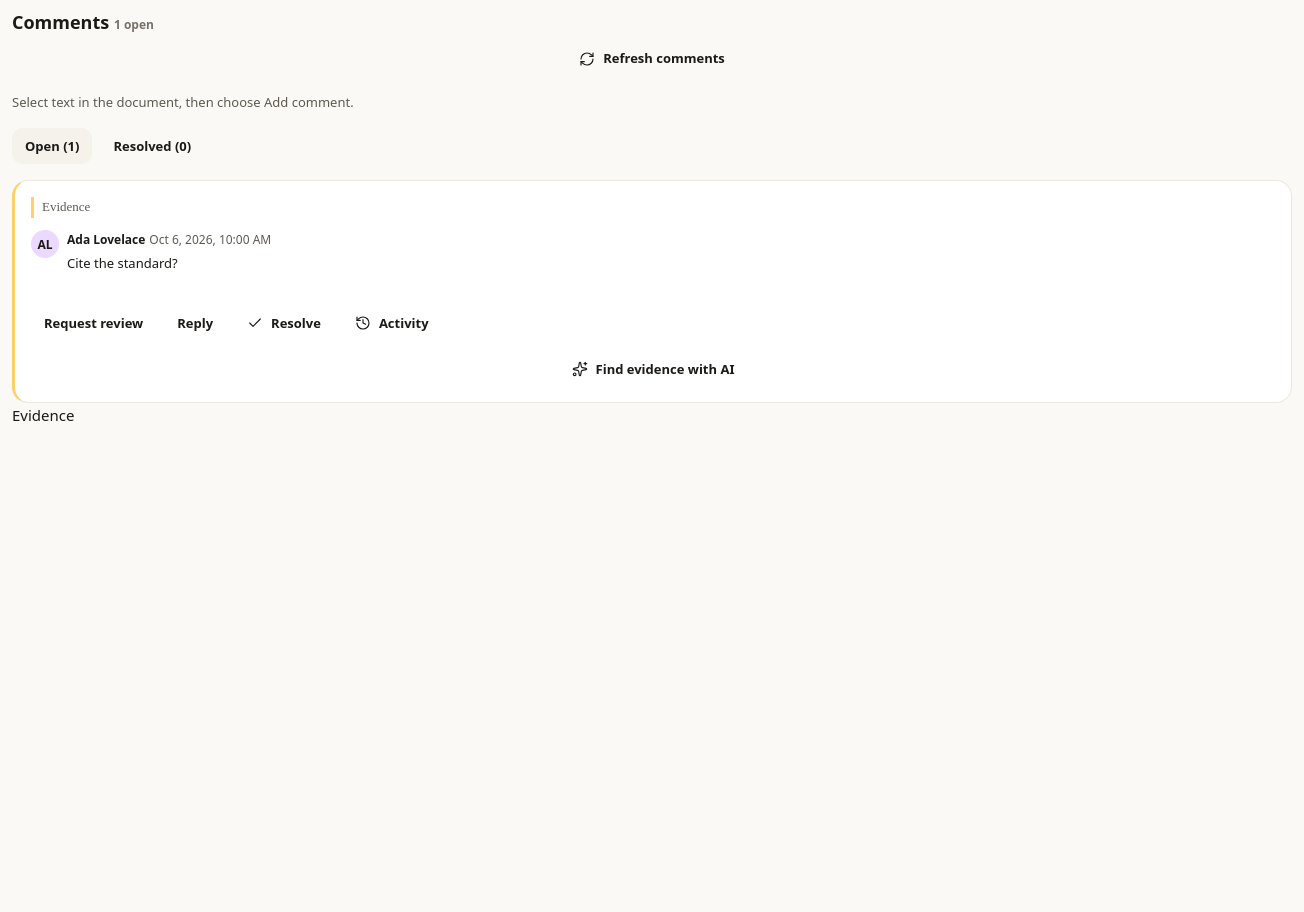
Test case: makes a new reply key for a changed draft and can cancel a reply
Click the button "Reply" at [195, 323], box [164,306,226,340]
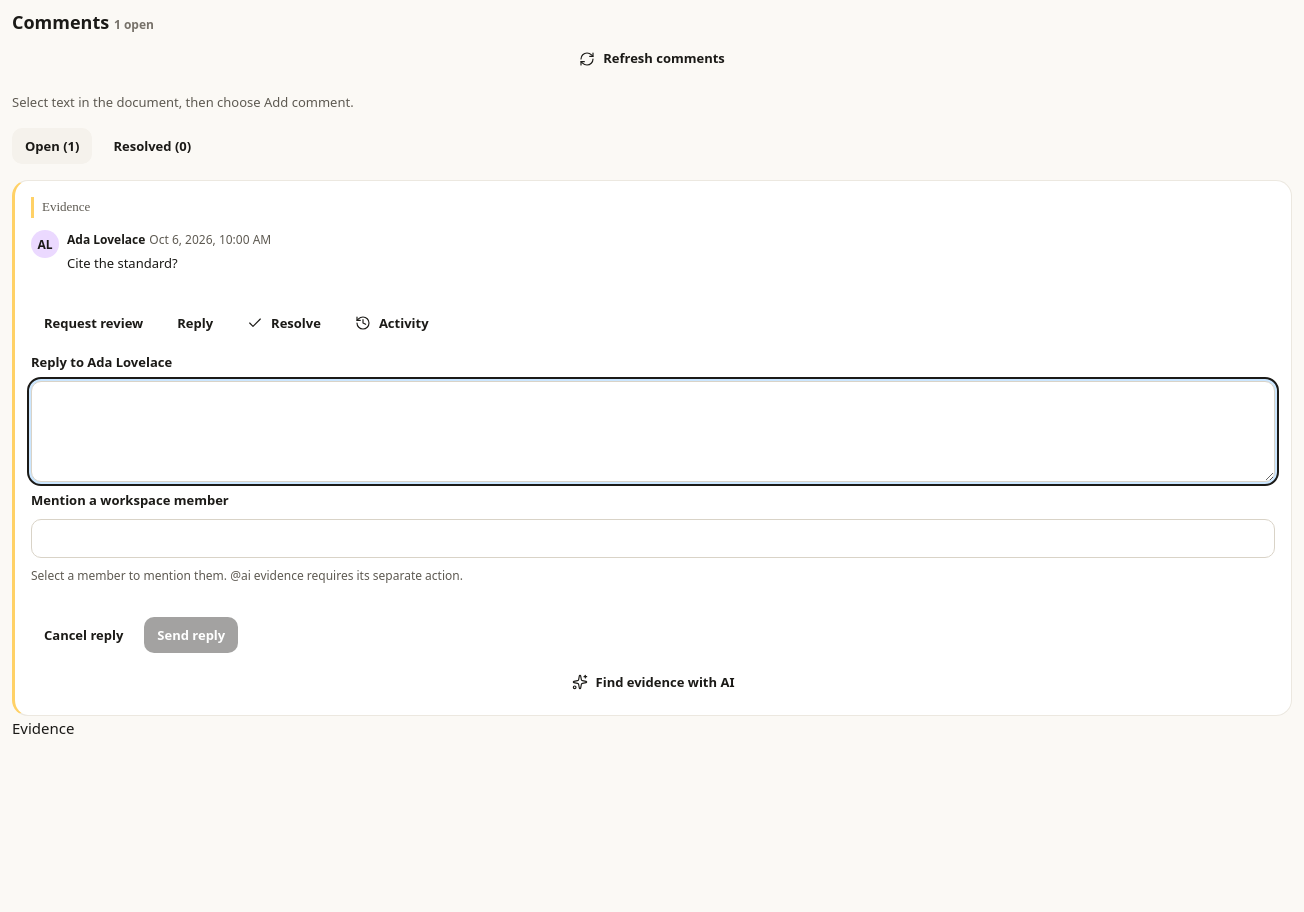
Type "First" into the text box labelled "Reply to Ada Lovelace" at [653, 432], box [31,381,1275,482]
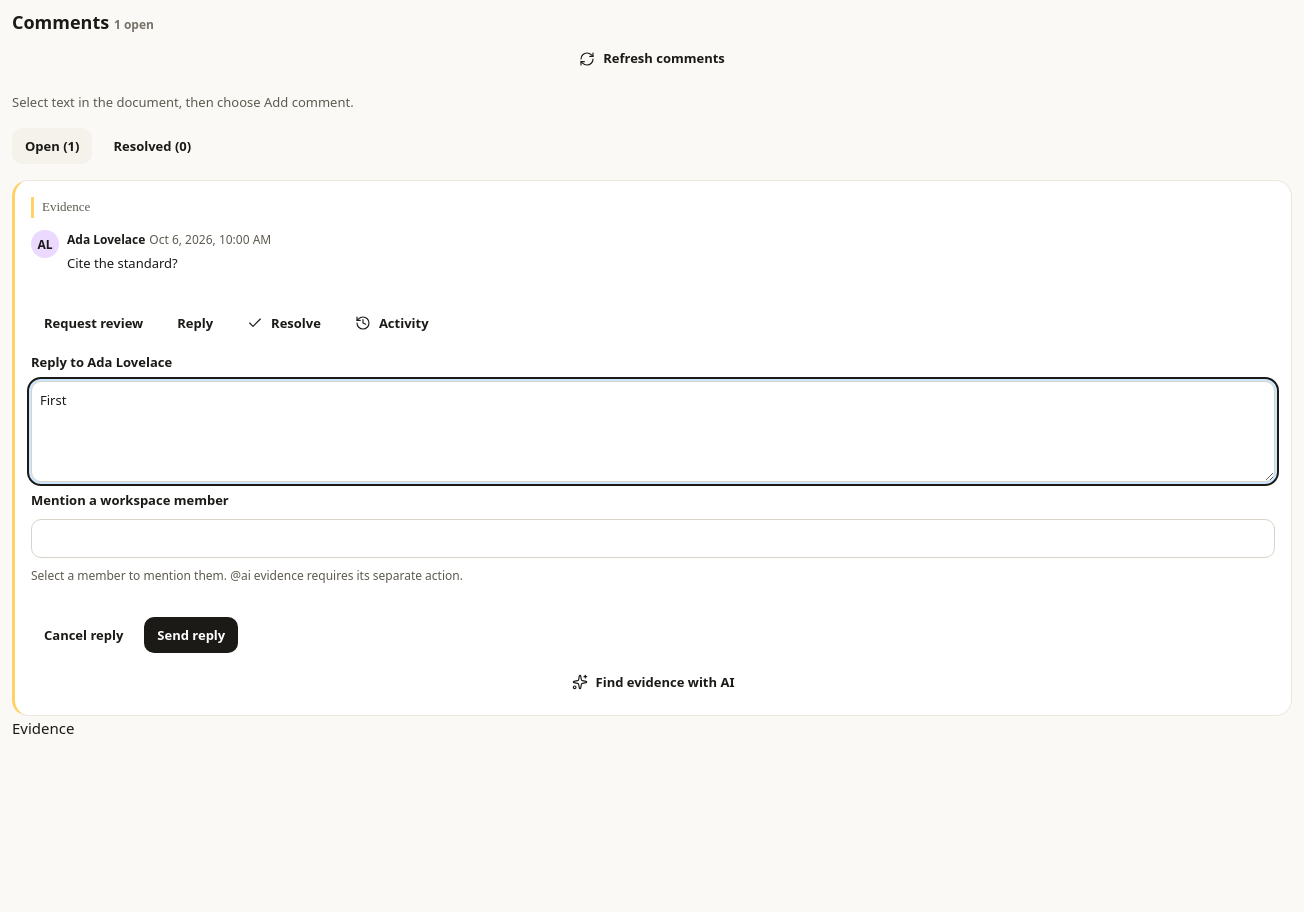
Click the button "Send reply" at [191, 635], box [144,617,238,653]
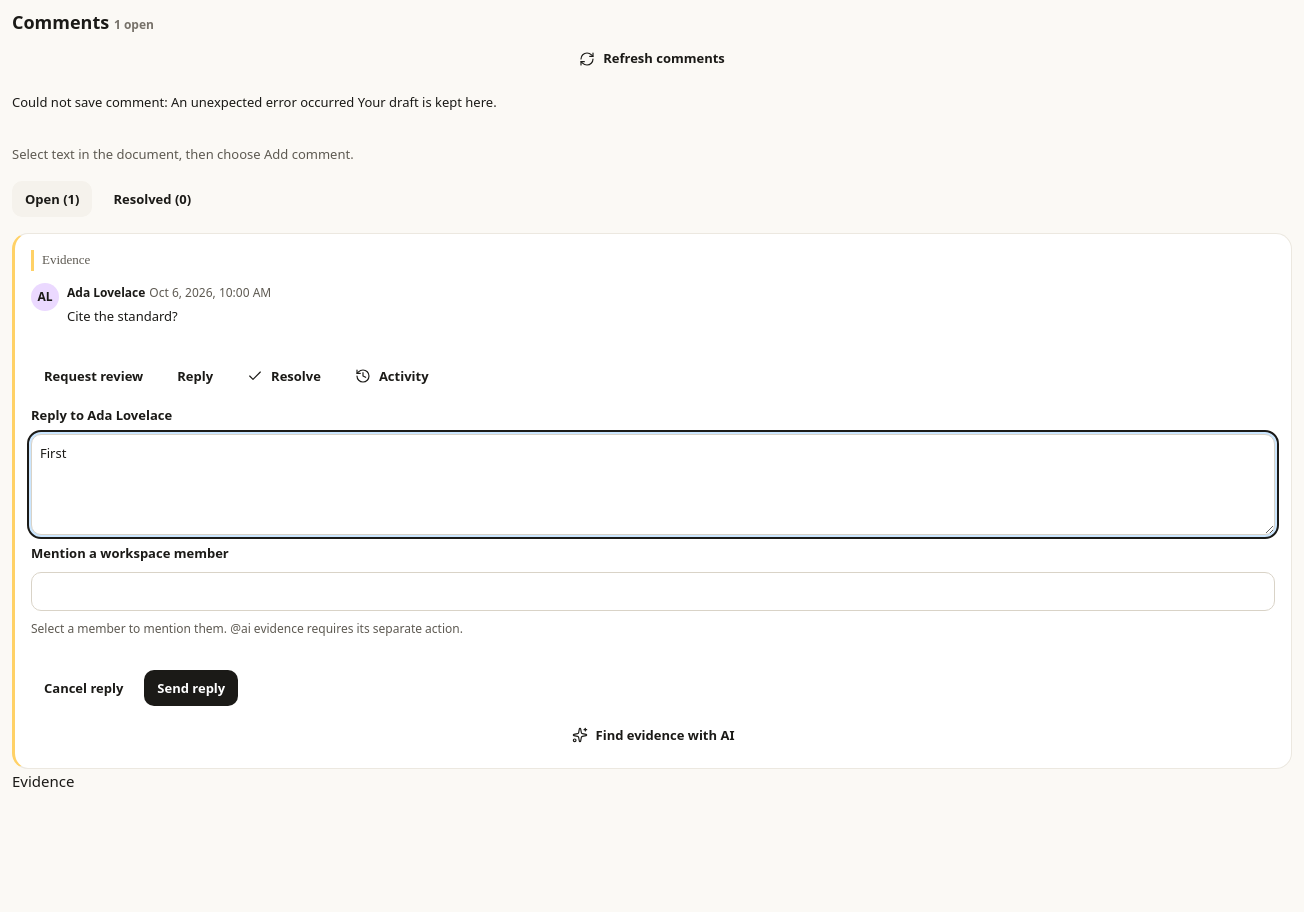
Now the message "Could not save comment: An unexpected error occurred Your draft is kept here." is shown, box [12,93,497,111]
Replace the text in the text box labelled "Reply to Ada Lovelace" with "Second" at [653, 484], box [31,434,1275,535]
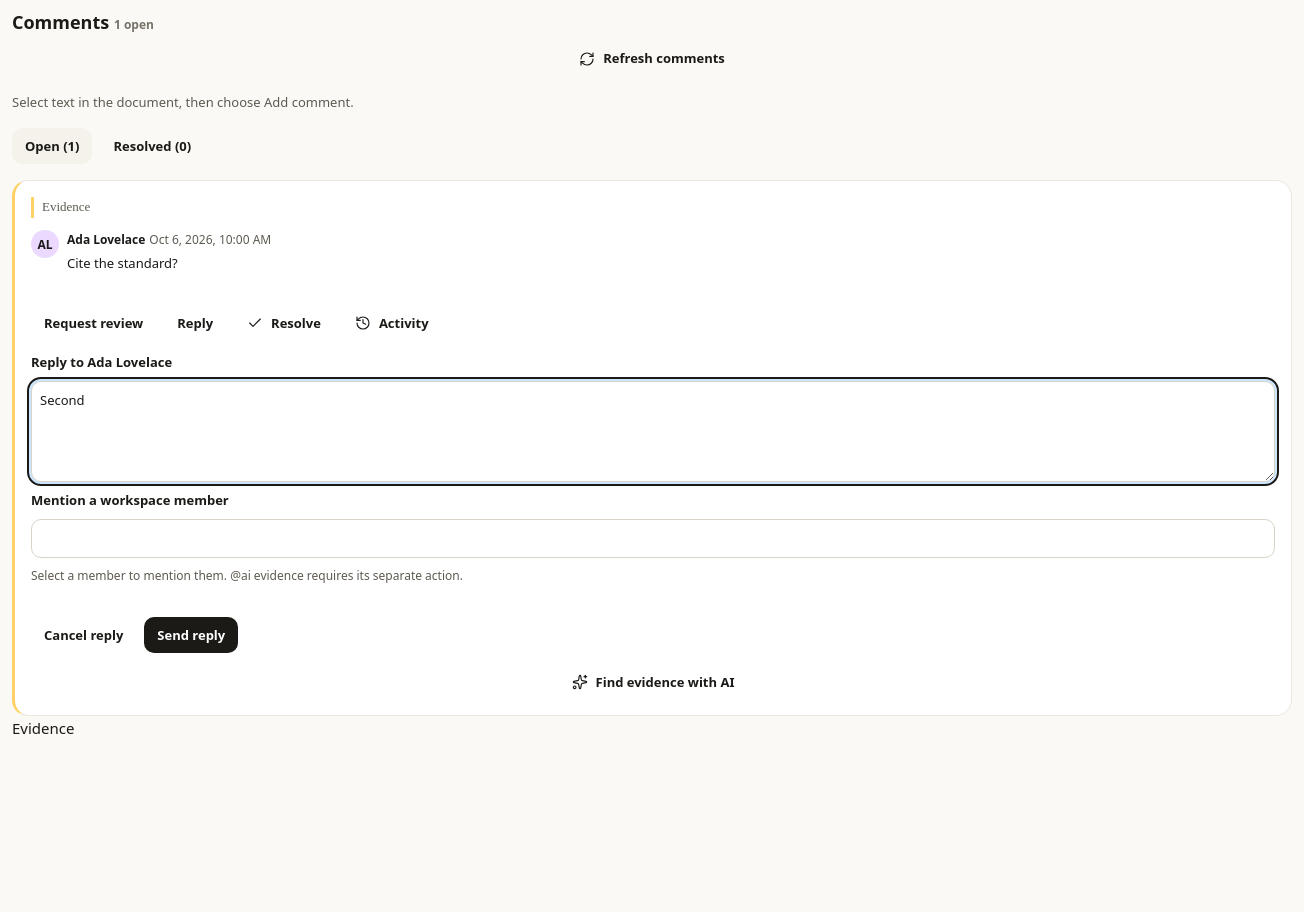
Click the button "Send reply" at [191, 635], box [144,617,238,653]
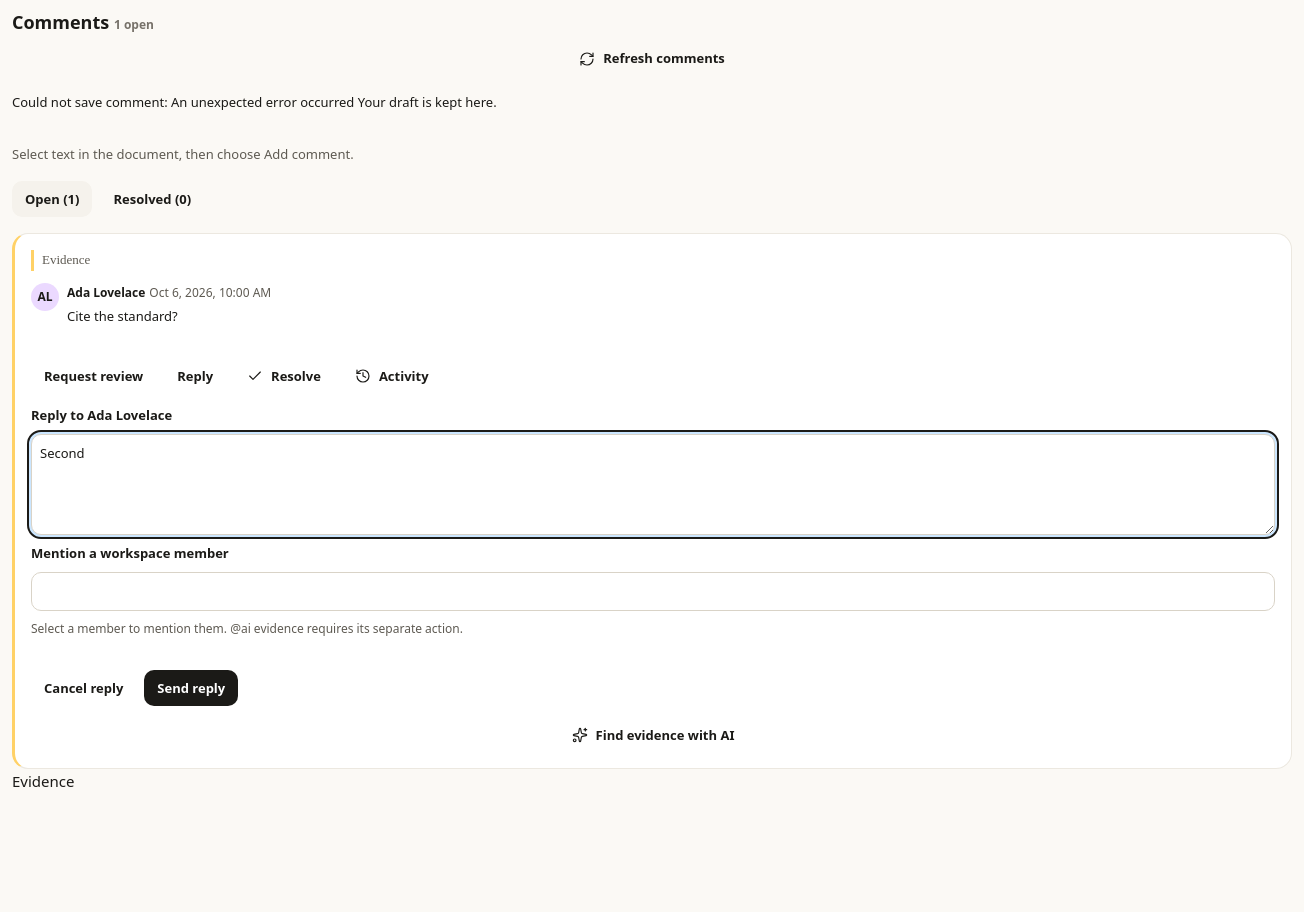
Now the message "Could not save comment: An unexpected error occurred Your draft is kept here." is shown, box [12,93,497,111]
Click the button "Cancel reply" at [84, 688], box [31,670,136,706]
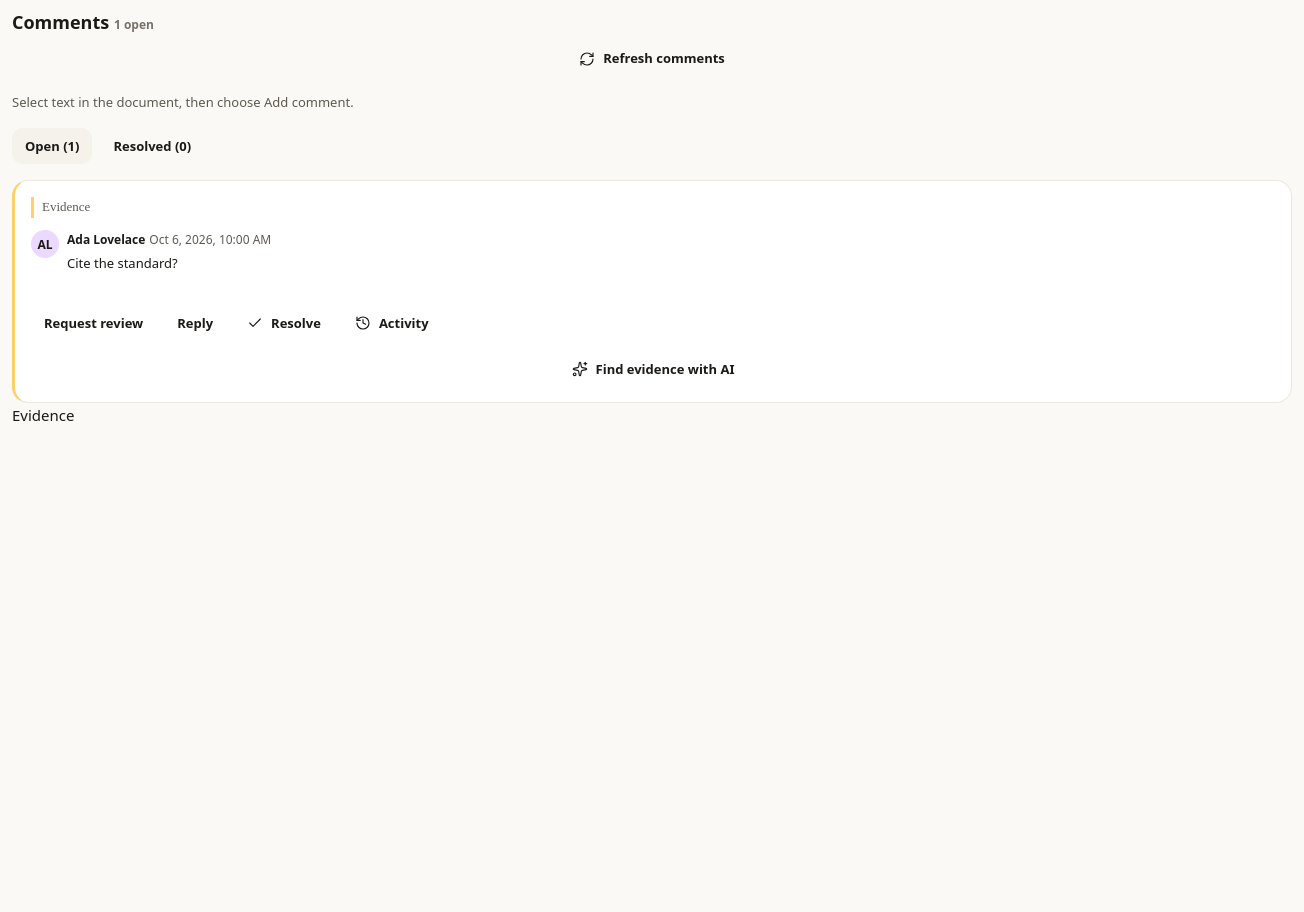
Now the label labelled "Reply to Ada Lovelace" is gone
